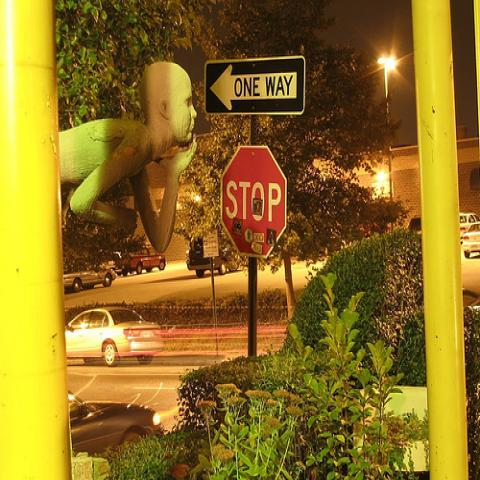car: (69, 390, 169, 456), (66, 306, 164, 365), (63, 257, 118, 294), (188, 238, 227, 277), (460, 211, 479, 243)
truck: (116, 244, 167, 277)
